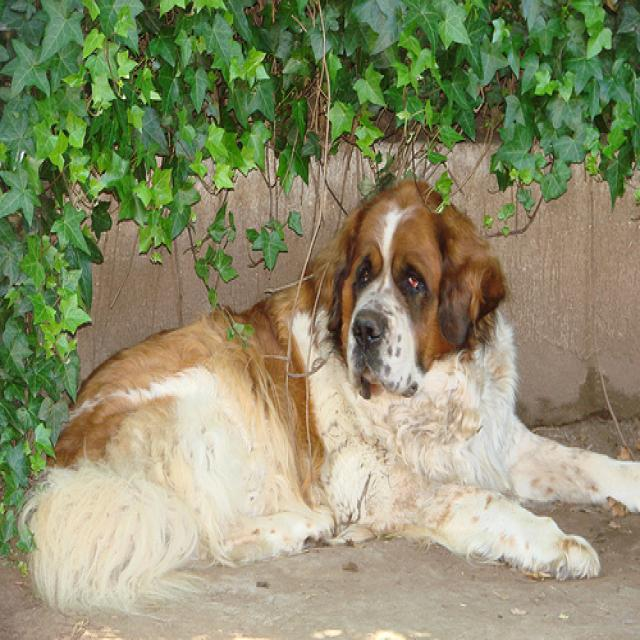dog-saint_bernard: (23, 176, 637, 618)
